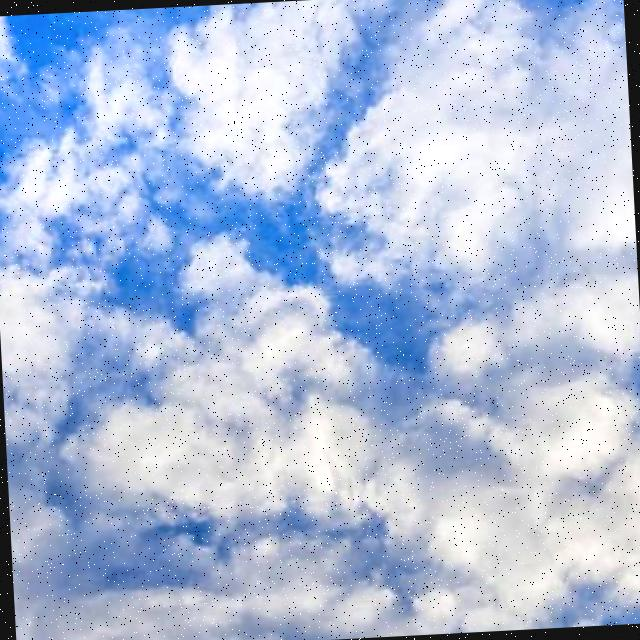As: (1, 36, 640, 563)
